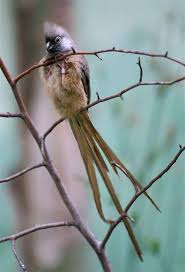target: (35, 20, 148, 263)
